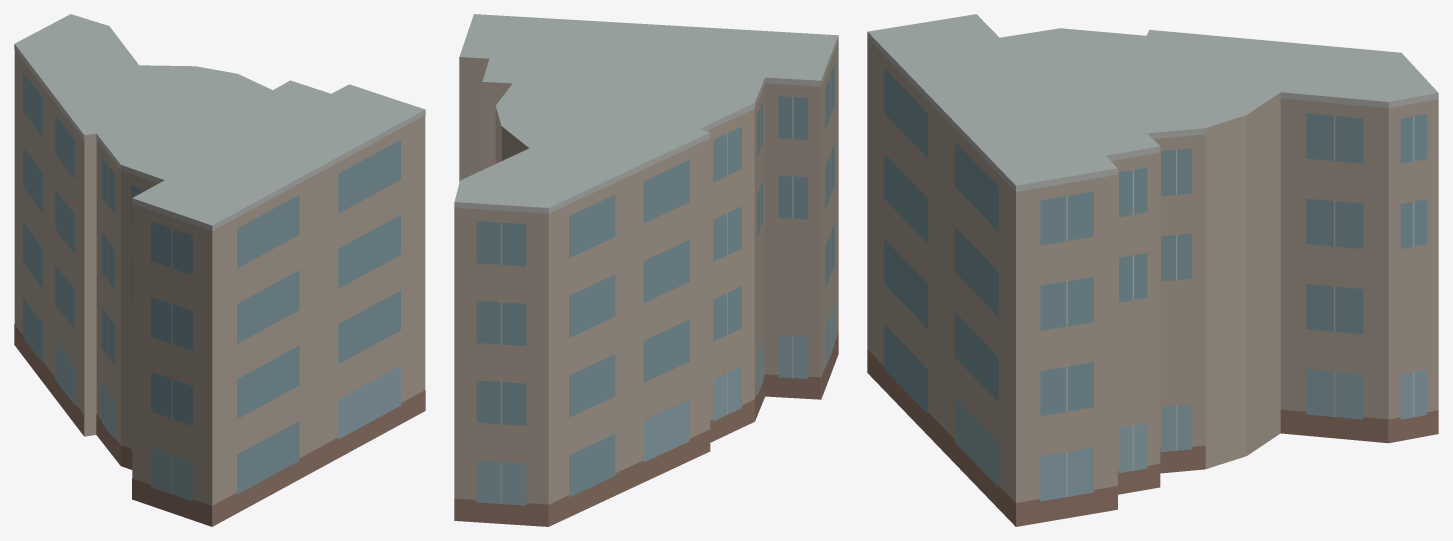
File: survey-upis-33001020.glb
3 renders of one model, left to right at view 1: azimuth 30°, elevation 25°; view 2: azimuth 150°, elevation 25°; view 3: azimuth 270°, elevation 25°, orthographic. The views are drawn at different scales.
Parts seen in each view (by area): view 1: survey-upis-33001020.tmp; view 2: survey-upis-33001020.tmp; view 3: survey-upis-33001020.tmp.
Part boxes in pixels (x1=…): survey-upis-33001020.tmp: x1=14, y1=14, x2=425, y2=526; survey-upis-33001020.tmp: x1=454, y1=14, x2=838, y2=526; survey-upis-33001020.tmp: x1=867, y1=14, x2=1438, y2=526.
Bounding box in the file's own units: 14.47 × 13.4 × 20.34.
